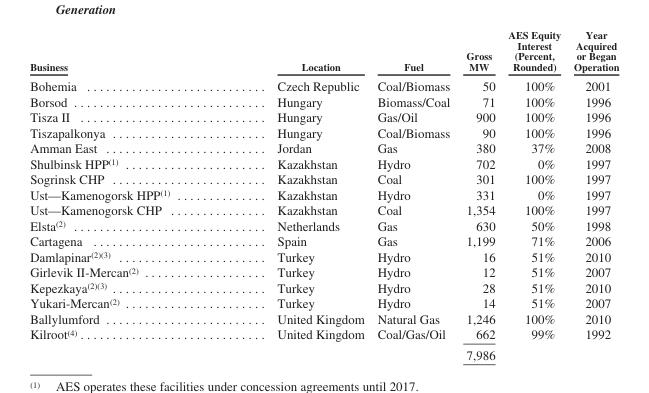table: (29, 28, 618, 361)
table column: (29, 28, 222, 361), (222, 28, 370, 361), (370, 28, 457, 361), (501, 28, 566, 361), (566, 28, 618, 361), (457, 28, 501, 361)
table column header: (29, 28, 618, 75)
table row: (29, 28, 618, 75), (29, 75, 618, 93), (29, 326, 618, 344), (29, 344, 618, 361), (29, 93, 618, 109), (29, 124, 618, 140), (29, 155, 618, 171), (29, 186, 618, 202), (29, 217, 618, 233), (29, 248, 618, 264), (29, 279, 618, 295), (29, 310, 618, 326), (29, 109, 618, 124), (29, 140, 618, 155), (29, 171, 618, 186), (29, 202, 618, 217), (29, 233, 618, 248), (29, 264, 618, 279), (29, 295, 618, 310)
table spanning cell: (29, 326, 222, 361)
